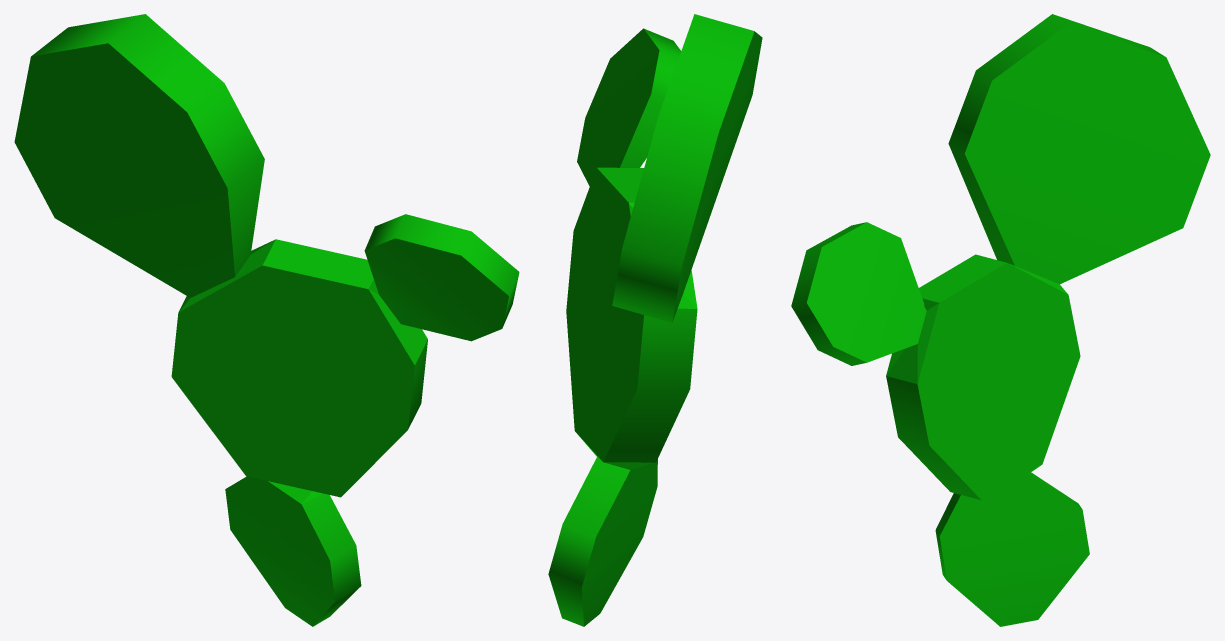
File: Cactus_Decor_1.fbx
3 renders of one model, left to right at view 1: azimuth 30°, elevation 25°; view 2: azimuth 150°, elevation 25°; view 3: azimuth 270°, elevation 25°, orthographic. The views are drawn at different scales.
Visible parts, largest first — view 1: Cactus_Decor_1; view 2: Cactus_Decor_1; view 3: Cactus_Decor_1.
Part boxes in pixels (<box>): Cactus_Decor_1: <box>14,14,519,626</box>; Cactus_Decor_1: <box>548,14,762,626</box>; Cactus_Decor_1: <box>791,14,1210,626</box>.
Bounding box in the file's own units: 7.37 × 14.32 × 10.01.
